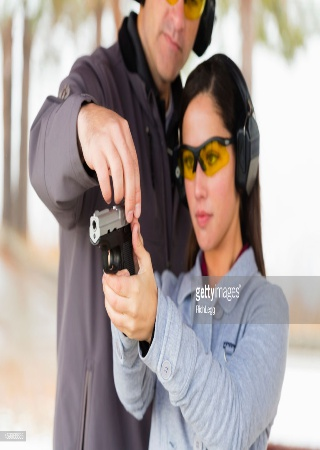handgun: (87, 200, 141, 277)
